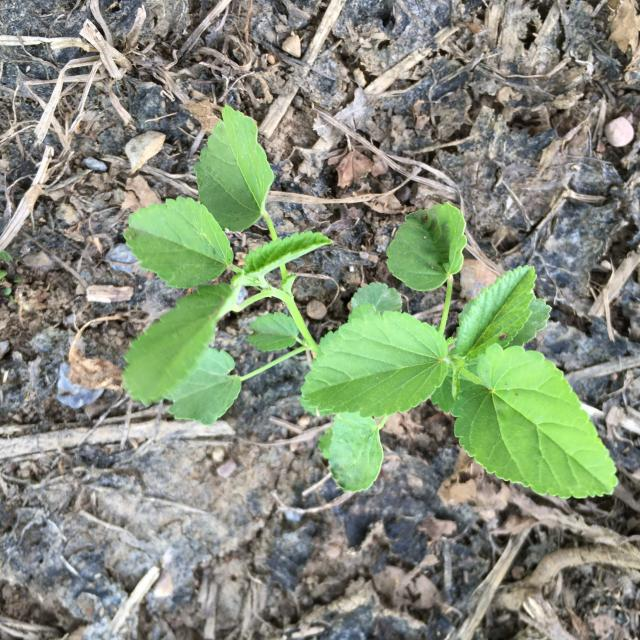PricklySida: (121, 103, 619, 500)
